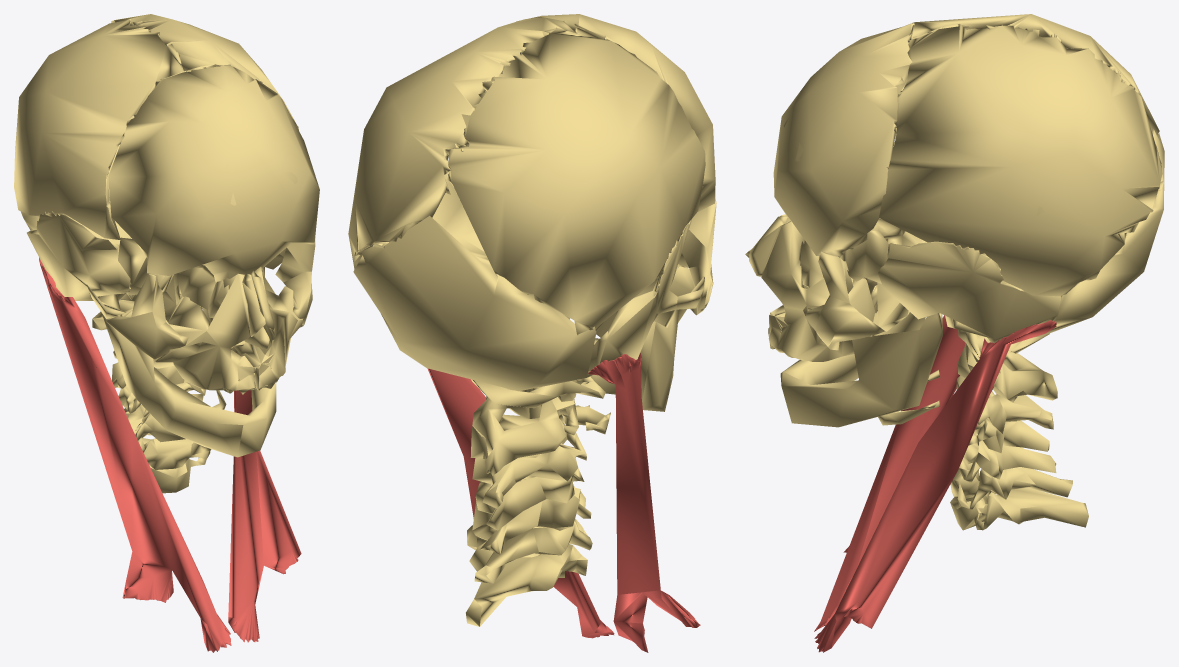
The model's file is head-neck.glb.
The picture shows the model from 3 angles, left to right: view 1: azimuth 30°, elevation 25°; view 2: azimuth 150°, elevation 25°; view 3: azimuth 270°, elevation 25°; orthographic projection. The views are drawn at different scales.
Parts seen in each view (by area): view 1: head-neck:frontal-bone:isa:FJ3200, head-neck:parietal-bone:isa:FJ3380, head-neck:sternocleidomastoid:isa:FJ1595, head-neck:sternocleidomastoid:isa:FJ1573, head-neck:mandible:isa:FJ3289, head-neck:maxilla:isa:FJ3375, head-neck:temporal-bone:isa:FJ3386, head-neck:parietal-bone:isa:FJ3274, head-neck:maxilla:isa:FJ3269, head-neck:zygomatic-bone:isa:FJ3392, head-neck:sphenoid-bone:isa:FJ3394, head-neck:zygomatic-bone:isa:FJ3287 (+9 smaller); view 2: head-neck:parietal-bone:isa:FJ3380, head-neck:occiput:isa:FJ3309, head-neck:parietal-bone:isa:FJ3274, head-neck:sternocleidomastoid:isa:FJ1595, head-neck:axis:isa:FJ3177, head-neck:temporal-bone:isa:FJ3386, head-neck:frontal-bone:isa:FJ3200, head-neck:sternocleidomastoid:isa:FJ1573, head-neck:seventh-cervical-vertebra:isa:FJ3172, head-neck:third-cervical-vertebra:isa:FJ3161, head-neck:sixth-cervical-vertebra:isa:FJ3170, head-neck:mandible:isa:FJ3289 (+7 smaller); view 3: head-neck:parietal-bone:isa:FJ3274, head-neck:frontal-bone:isa:FJ3200, head-neck:sternocleidomastoid:isa:FJ1573, head-neck:mandible:isa:FJ3289, head-neck:temporal-bone:isa:FJ3281, head-neck:sternocleidomastoid:isa:FJ1595, head-neck:maxilla:isa:FJ3269, head-neck:occiput:isa:FJ3309, head-neck:seventh-cervical-vertebra:isa:FJ3172, head-neck:parietal-bone:isa:FJ3380, head-neck:zygomatic-bone:isa:FJ3287, head-neck:sphenoid-bone:isa:FJ3394 (+9 smaller).
Part boxes in pixels (x1,y1,x2,y2): head-neck:frontal-bone:isa:FJ3200: (108, 65, 319, 281); head-neck:parietal-bone:isa:FJ3380: (14, 19, 191, 239); head-neck:sternocleidomastoid:isa:FJ1595: (39, 257, 231, 652); head-neck:sternocleidomastoid:isa:FJ1573: (228, 390, 301, 642); head-neck:mandible:isa:FJ3289: (98, 267, 276, 457); head-neck:maxilla:isa:FJ3375: (154, 273, 256, 394); head-neck:temporal-bone:isa:FJ3386: (27, 211, 130, 318); head-neck:parietal-bone:isa:FJ3274: (111, 14, 298, 130); head-neck:maxilla:isa:FJ3269: (232, 267, 303, 390); head-neck:zygomatic-bone:isa:FJ3392: (106, 273, 188, 359); head-neck:sphenoid-bone:isa:FJ3394: (118, 237, 286, 321); head-neck:zygomatic-bone:isa:FJ3287: (275, 238, 315, 324); head-neck:parietal-bone:isa:FJ3380: (445, 24, 705, 335); head-neck:occiput:isa:FJ3309: (353, 215, 596, 391); head-neck:parietal-bone:isa:FJ3274: (348, 17, 573, 269); head-neck:sternocleidomastoid:isa:FJ1595: (588, 352, 700, 652); head-neck:axis:isa:FJ3177: (472, 387, 578, 475); head-neck:temporal-bone:isa:FJ3386: (588, 218, 704, 370); head-neck:frontal-bone:isa:FJ3200: (478, 14, 715, 211); head-neck:sternocleidomastoid:isa:FJ1573: (427, 368, 614, 638); head-neck:seventh-cervical-vertebra:isa:FJ3172: (466, 525, 587, 626); head-neck:third-cervical-vertebra:isa:FJ3161: (470, 414, 586, 508); head-neck:sixth-cervical-vertebra:isa:FJ3170: (472, 502, 592, 583); head-neck:mandible:isa:FJ3289: (579, 309, 679, 411); head-neck:parietal-bone:isa:FJ3274: (879, 24, 1162, 296); head-neck:frontal-bone:isa:FJ3200: (773, 23, 914, 256); head-neck:sternocleidomastoid:isa:FJ1573: (814, 320, 1056, 652); head-neck:mandible:isa:FJ3289: (780, 311, 942, 427); head-neck:temporal-bone:isa:FJ3281: (878, 241, 1061, 342); head-neck:sternocleidomastoid:isa:FJ1595: (814, 315, 965, 631); head-neck:maxilla:isa:FJ3269: (761, 221, 875, 361); head-neck:occiput:isa:FJ3309: (1034, 129, 1164, 337); head-neck:seventh-cervical-vertebra:isa:FJ3172: (950, 488, 1088, 530); head-neck:parietal-bone:isa:FJ3380: (895, 14, 1159, 138); head-neck:zygomatic-bone:isa:FJ3287: (805, 251, 884, 346); head-neck:sphenoid-bone:isa:FJ3394: (840, 218, 927, 331).
Bounding box in the file's own units: 0.1489 × 0.3339 × 0.2065.
